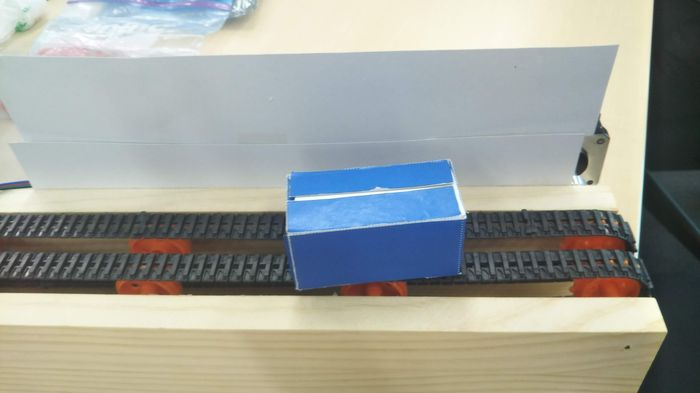box3: (278, 156, 469, 289)
